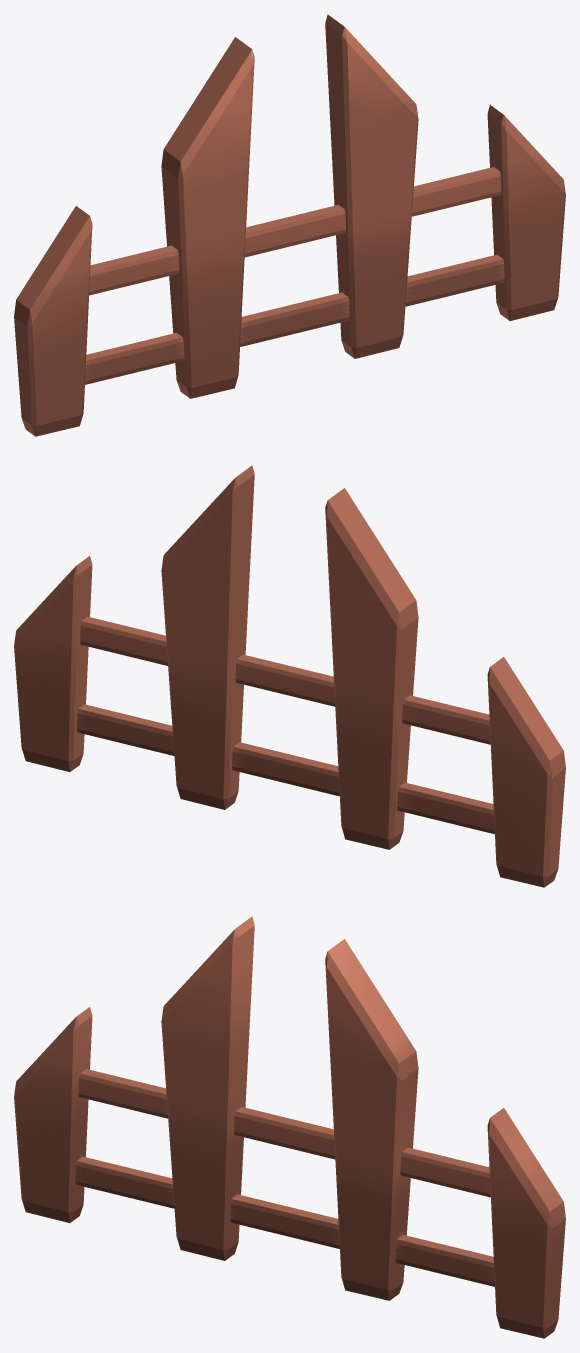
Rendered from FENCE.fbx.
3 views of the same model, one above another, from view 1: azimuth 30°, elevation 25°; view 2: azimuth 150°, elevation 25°; view 3: azimuth 330°, elevation 25° (orthographic).
Parts seen in each view (by area): view 1: Cube.004; view 2: Cube.004; view 3: Cube.004.
Part boxes in pixels (x1,y1,x2,y2): Cube.004: (14,14,565,436); Cube.004: (14,465,565,887); Cube.004: (14,916,565,1338).
Size of the model in its own units: 144 by 86.7 by 9.54.
